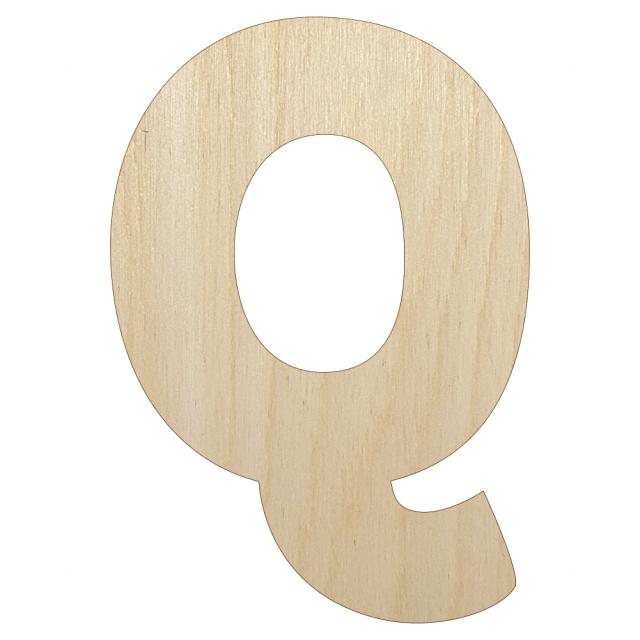Q: (63, 3, 599, 629)
